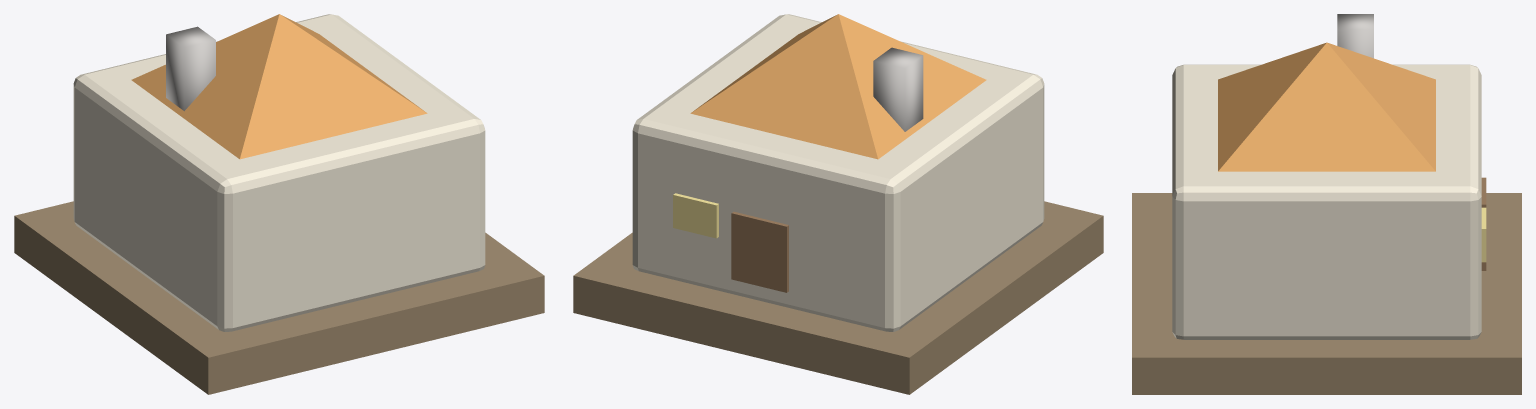
File: shelter.glb
3 views of the same model, side by side, from view 1: azimuth 30°, elevation 25°; view 2: azimuth 150°, elevation 25°; view 3: azimuth 270°, elevation 25° (orthographic).
Visible parts, largest first — view 1: Walls, Base, Roof, Chimney; view 2: Walls, Base, Roof, Door, Chimney, Window; view 3: Walls, Base, Roof, Chimney.
Part boxes in pixels (bbox=[...]): Walls: bbox=[73, 14, 485, 331]; Base: bbox=[14, 201, 544, 394]; Roof: bbox=[131, 14, 427, 159]; Chimney: bbox=[166, 26, 215, 111]; Walls: bbox=[632, 14, 1044, 331]; Base: bbox=[573, 201, 1103, 394]; Roof: bbox=[690, 14, 986, 159]; Door: bbox=[731, 211, 788, 292]; Chimney: bbox=[873, 47, 923, 131]; Window: bbox=[673, 193, 718, 238]; Walls: bbox=[1172, 64, 1481, 339]; Base: bbox=[1132, 193, 1521, 394]; Roof: bbox=[1218, 42, 1435, 171]; Chimney: bbox=[1337, 14, 1373, 58].
Bounding box in the file's own units: 3.4 × 2.6 × 3.4.
